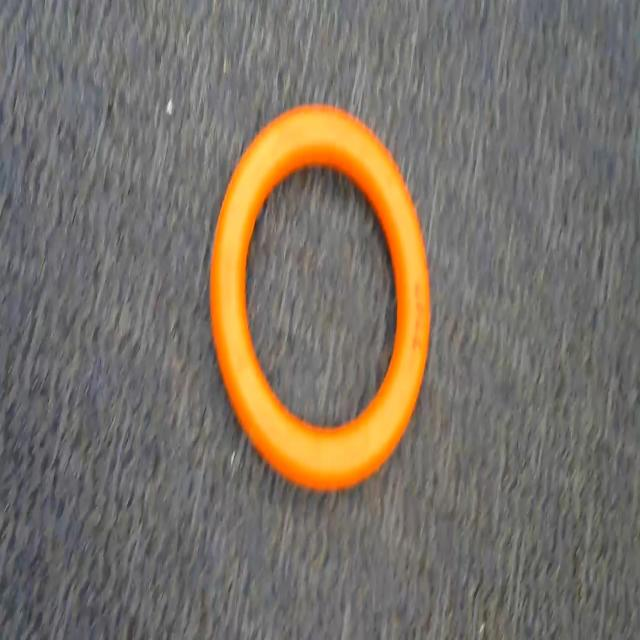note: (195, 83, 452, 512)
